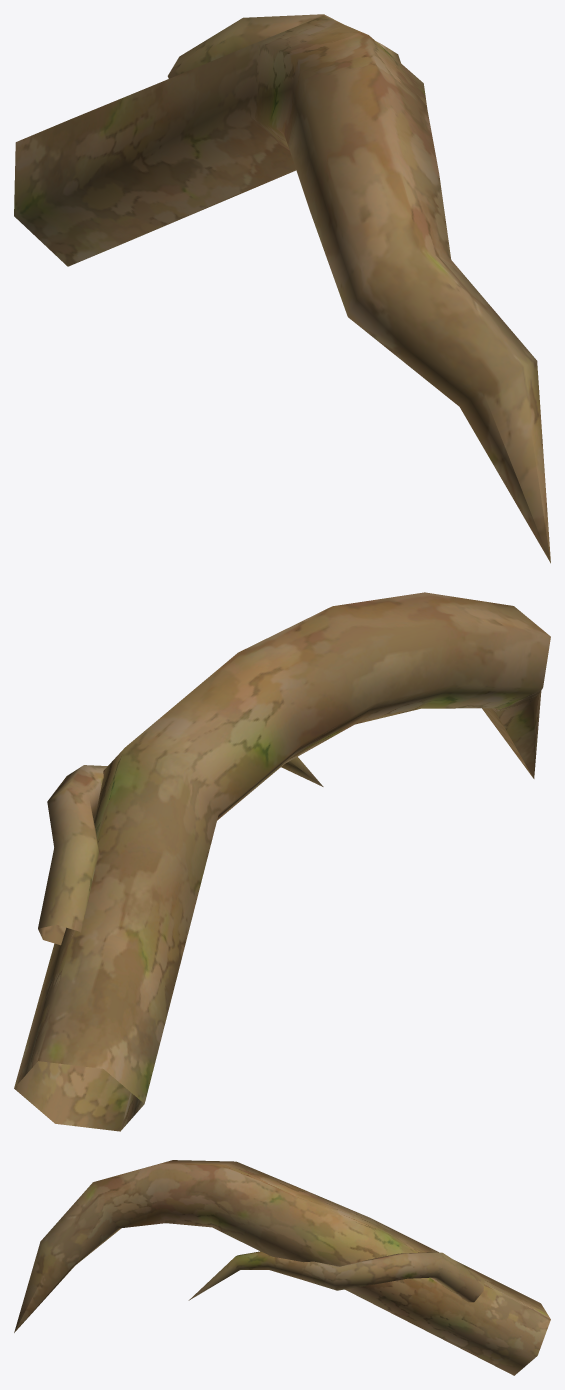
File: P_RedMapleRoots02.obj
The picture shows the model from 3 angles, top to bottom: view 1: azimuth 30°, elevation 25°; view 2: azimuth 150°, elevation 25°; view 3: azimuth 270°, elevation 25°; orthographic projection. The views are drawn at different scales.
Bounding box in the file's own units: 2.19 × 2.75 × 6.64.
